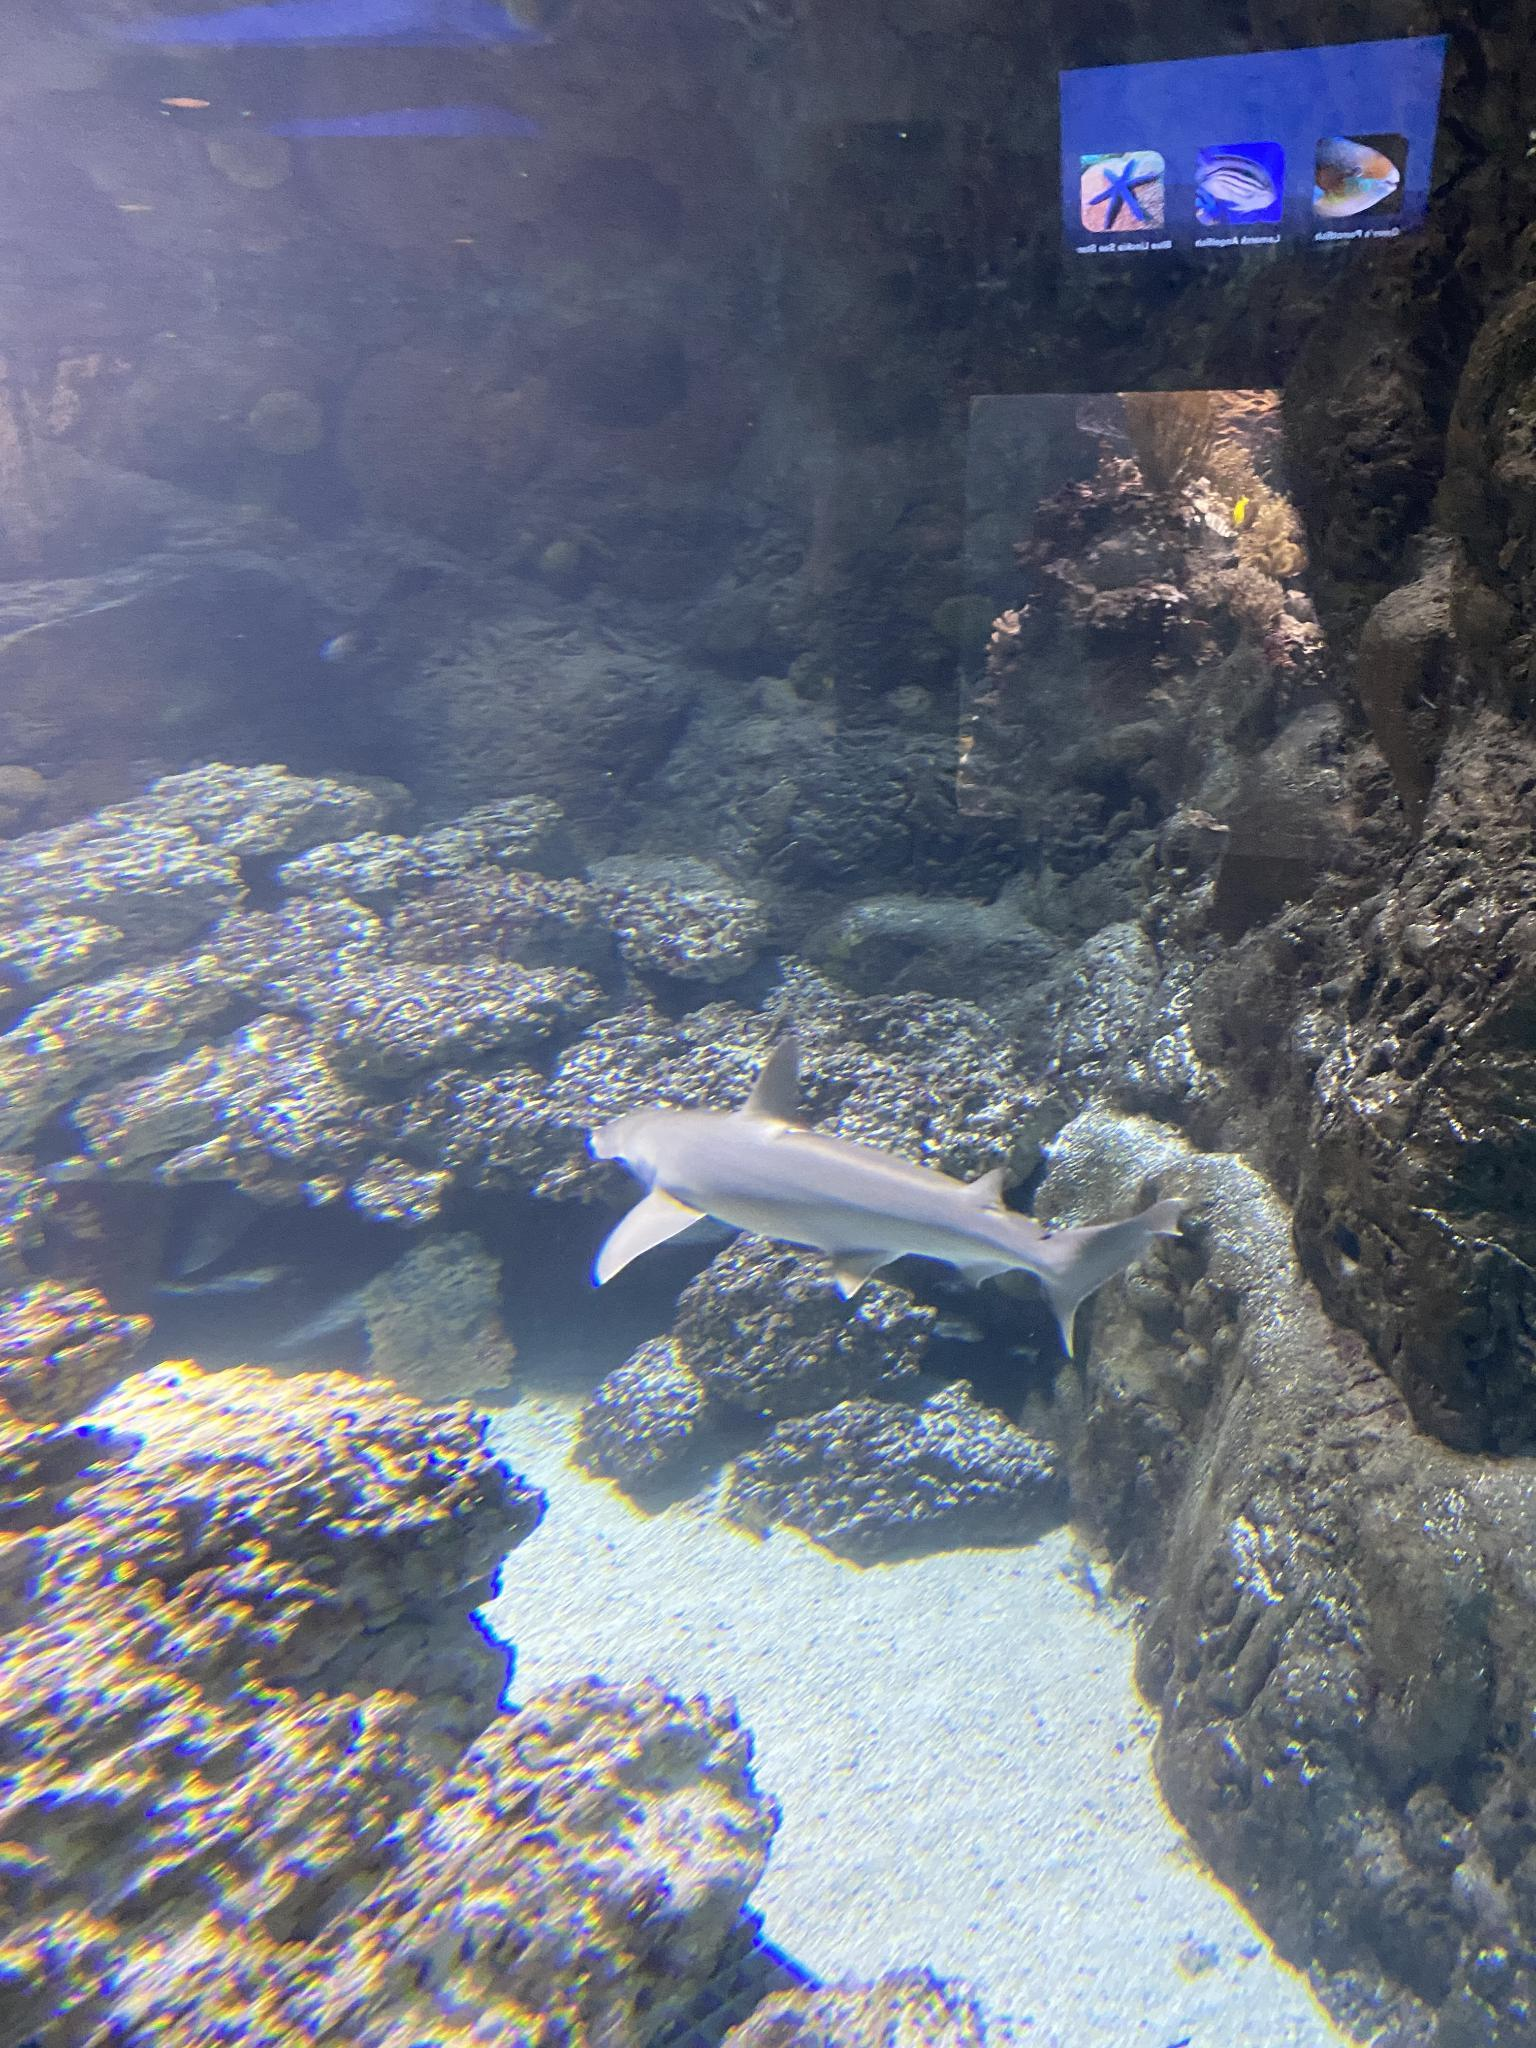shark: (594, 1035, 1187, 1359)
